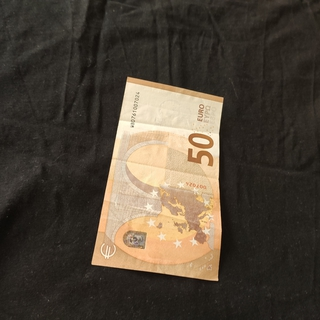50EUROBack: (89, 74, 225, 282)
